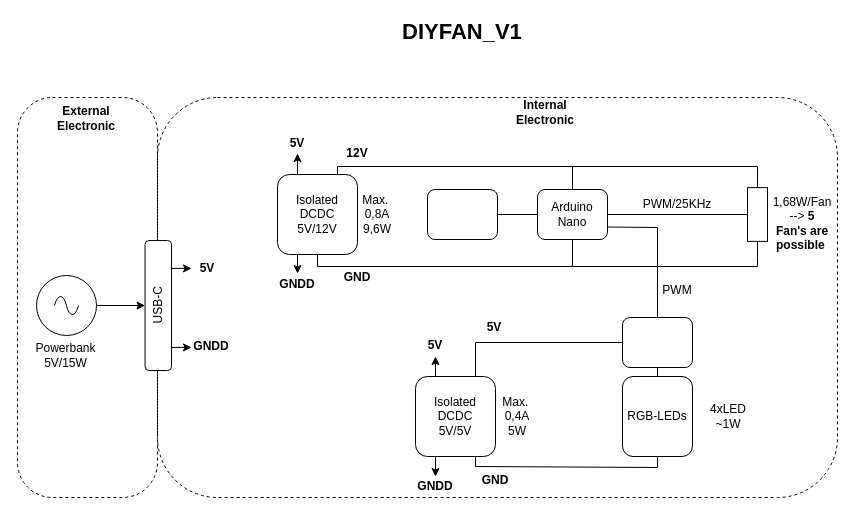
The diagram is 855 pixels wide and 515 high, and some of its shapes have lost their labels. Each missing label, with the centre of its shape:
"Button" goes at point (462, 214).
"Transistors" goes at point (657, 342).
